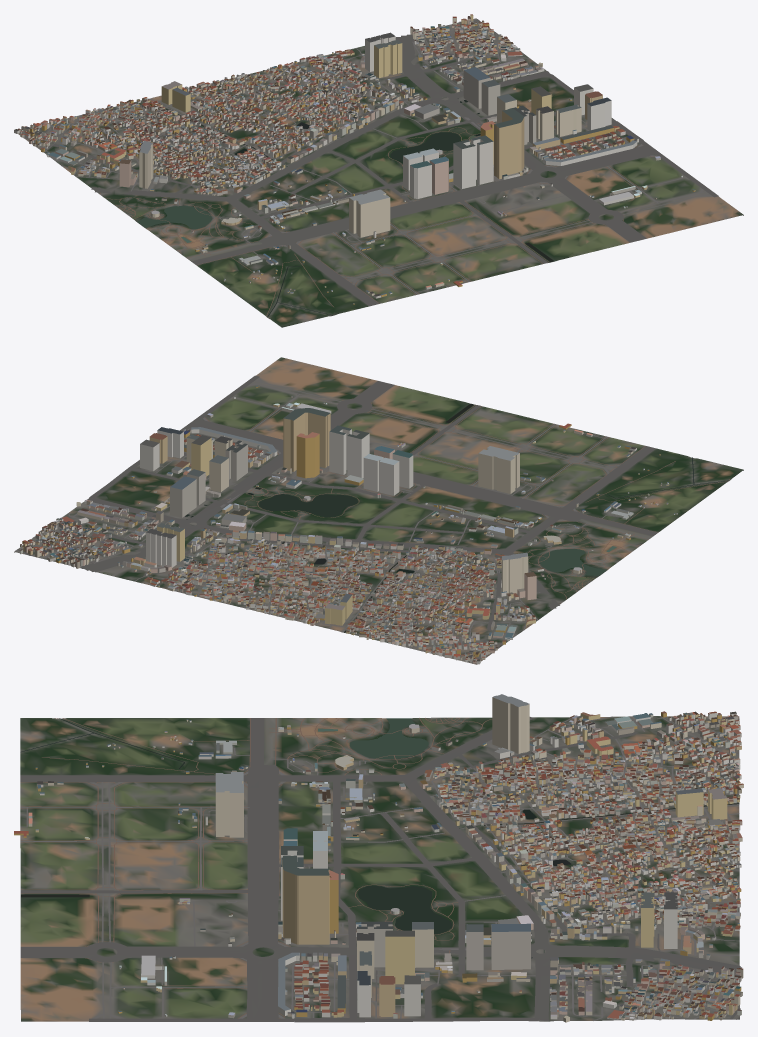
3 renders of one model, top to bottom at view 1: azimuth 30°, elevation 25°; view 2: azimuth 150°, elevation 25°; view 3: azimuth 270°, elevation 25°, orthographic. The views are drawn at different scales.
Visible parts, largest first — view 1: ground, buildings, roads, water; view 2: ground, buildings, roads, water; view 3: ground, buildings, roads, water.
Boxes of the visible parts, bbox=[...] form: ground: bbox=[18, 18, 743, 327]; buildings: bbox=[14, 14, 695, 304]; roads: bbox=[22, 19, 718, 318]; water: bbox=[137, 97, 554, 317]; ground: bbox=[14, 357, 743, 664]; buildings: bbox=[20, 385, 677, 664]; roads: bbox=[15, 375, 729, 663]; water: bbox=[185, 403, 729, 632]; ground: bbox=[20, 716, 739, 1021]; buildings: bbox=[14, 694, 743, 1022]; roads: bbox=[20, 716, 741, 1022]; water: bbox=[20, 718, 739, 1021].
Size of the model in its own units: 1411 by 153 by 1423.
